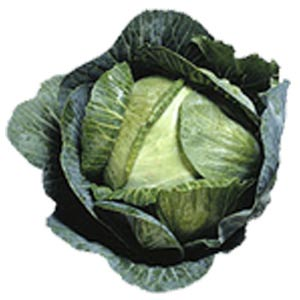cabbage: (106, 78, 207, 189)
